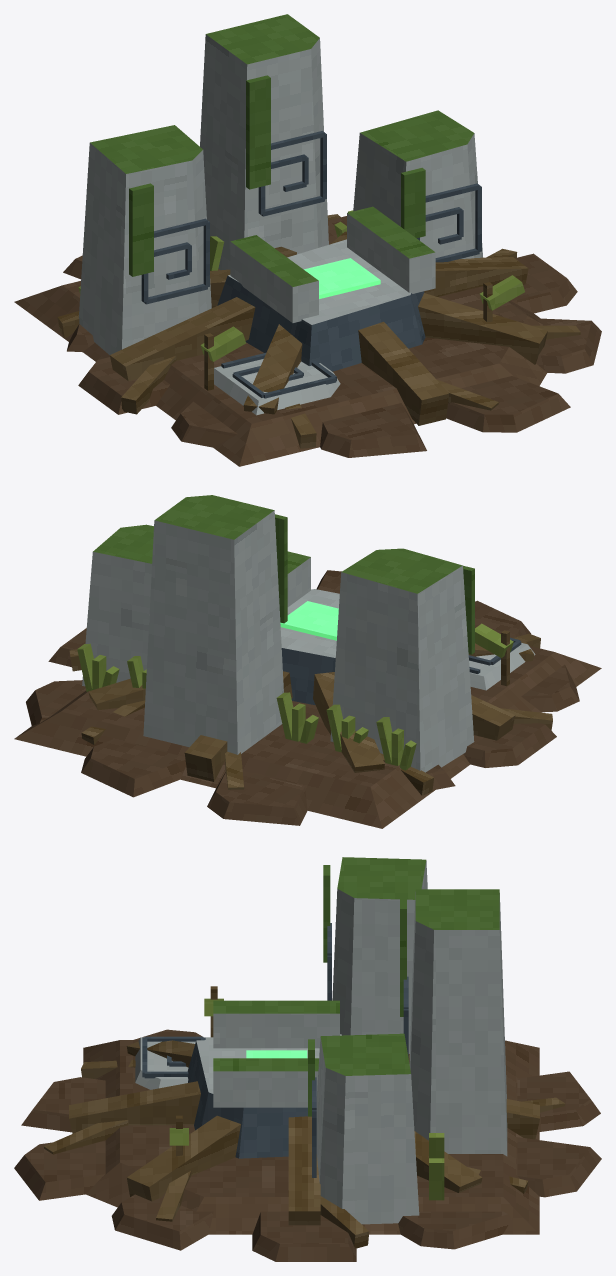
Rendered from arboreal_ancient_lair_v1.glb.
The picture shows the model from 3 angles, top to bottom: view 1: azimuth 30°, elevation 25°; view 2: azimuth 150°, elevation 25°; view 3: azimuth 270°, elevation 25°; orthographic projection. The views are drawn at different scales.
Visible parts, largest first — view 1: Model; view 2: Model; view 3: Model.
Boxes of the visible parts, x1,y1,x2,y2 form: Model: (14,14,601,466); Model: (14,495,601,828); Model: (14,857,601,1261).
Bounding box in the file's own units: 1.33 × 0.649 × 1.42.
Materials: 1 (1 with a texture image).
